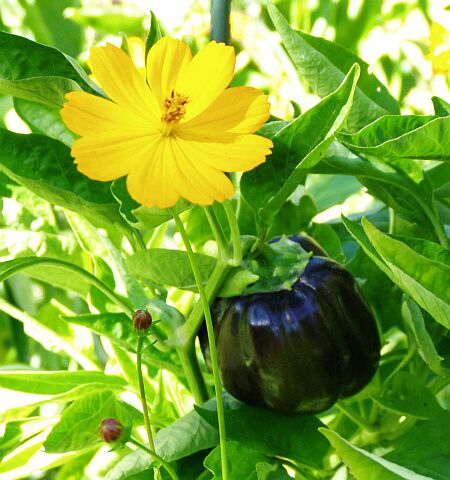capsicum: (198, 235, 382, 418)
